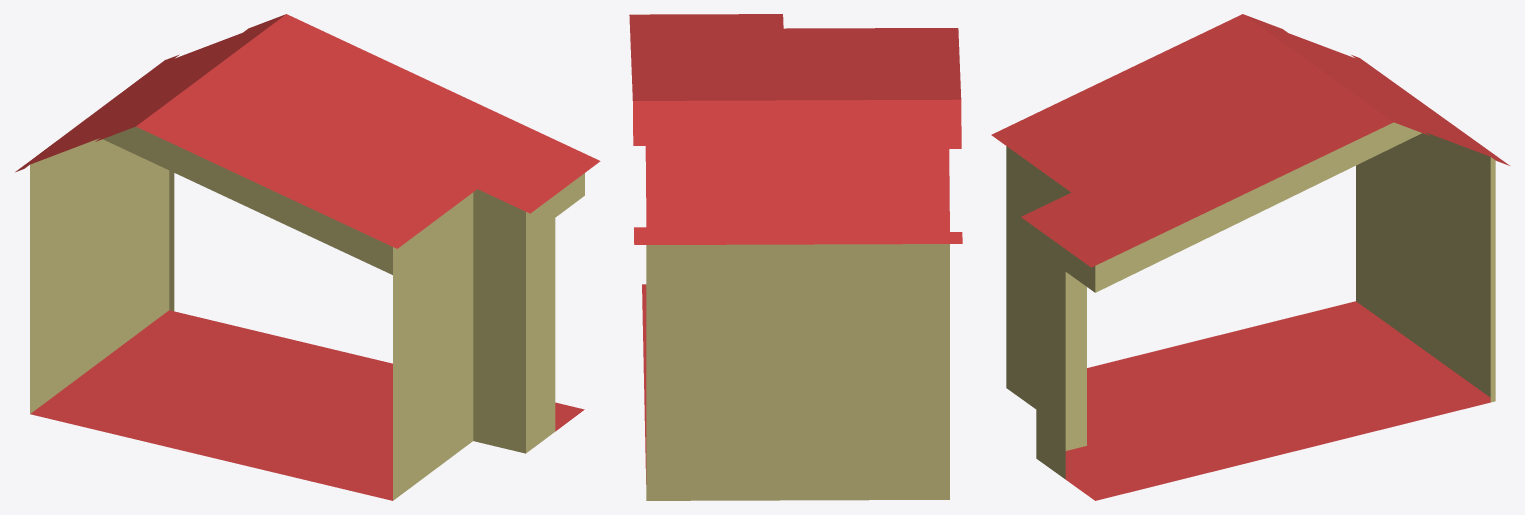
3 views of the same model, side by side, from view 1: azimuth 30°, elevation 25°; view 2: azimuth 150°, elevation 25°; view 3: azimuth 270°, elevation 25° (orthographic). The views are drawn at different scales.
Size of the model in its own units: 22.32 by 23.04 by 15.15.
